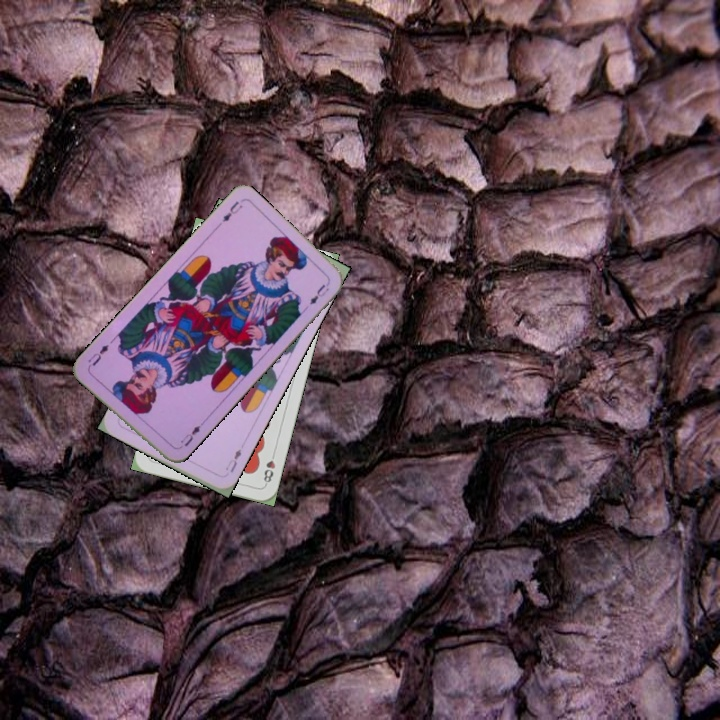EU: (174, 419, 205, 452), (218, 197, 245, 225), (221, 445, 244, 475)
H8: (259, 447, 278, 487)
